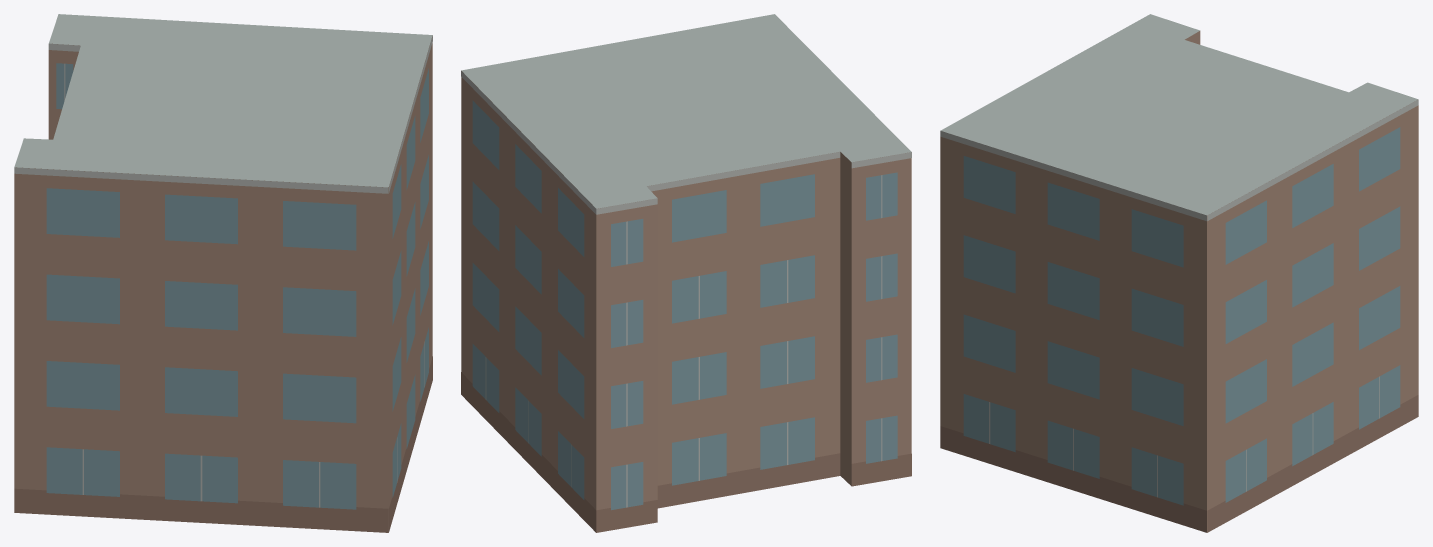
The model's file is survey-upis-32524217.glb.
The picture shows the model from 3 angles, left to right: view 1: azimuth 30°, elevation 25°; view 2: azimuth 150°, elevation 25°; view 3: azimuth 270°, elevation 25°; orthographic projection. The views are drawn at different scales.
Parts seen in each view (by area): view 1: survey-upis-32524217.tmp; view 2: survey-upis-32524217.tmp; view 3: survey-upis-32524217.tmp.
Boxes of the visible parts, x1,y1,x2,y2 form: survey-upis-32524217.tmp: [14, 14, 432, 532]; survey-upis-32524217.tmp: [461, 14, 911, 532]; survey-upis-32524217.tmp: [940, 14, 1418, 532].
Size of the model in its own units: 17.84 by 13.1 by 17.89.
